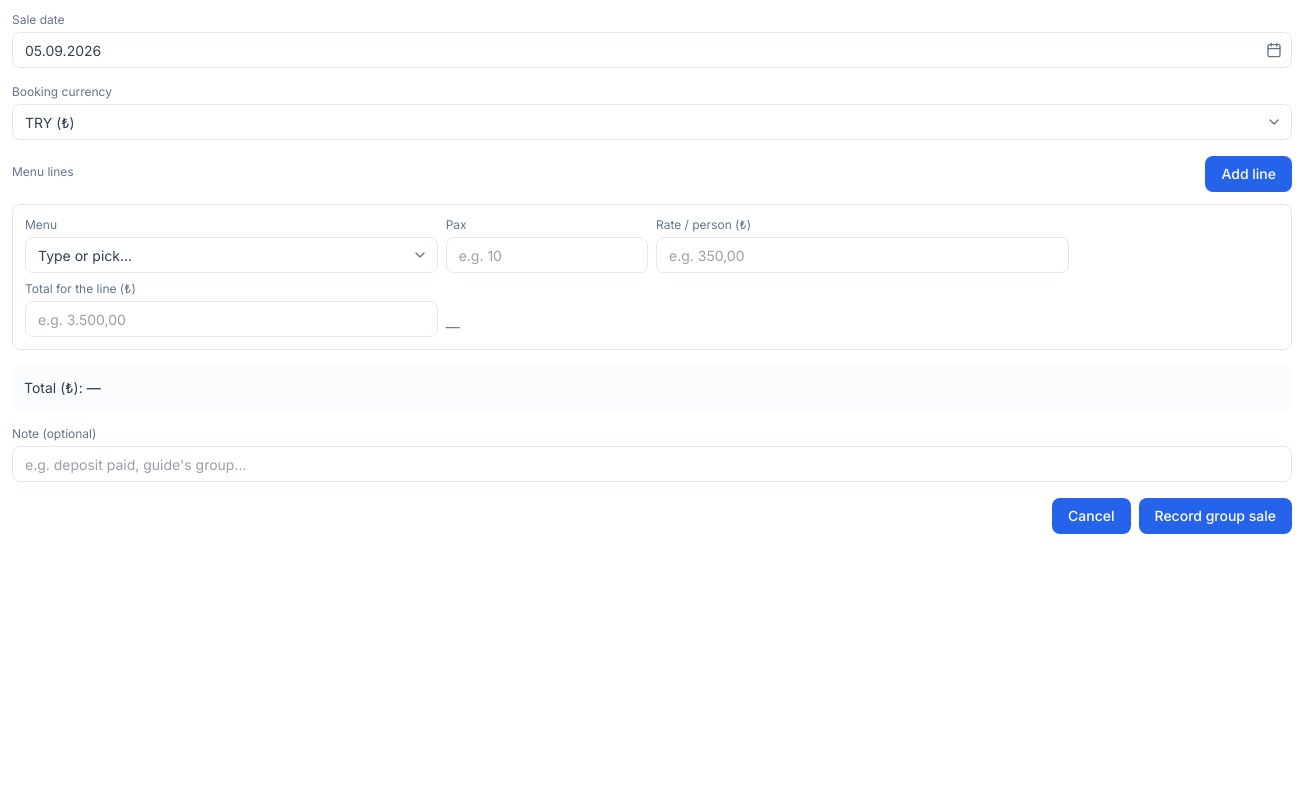
Test: GroupSaleForm menu picker › renders exactly one menu control per line — no duplicate name field
Expected: the text "Menu lines" is shown, [12,164,74,180]
Expected: the number of dropdowns with placeholder "Type or pick…" is 1, [25,237,438,273]
Replace the text in the dropdown with id "group-sale-currency" with "USD" at (652, 122), box [12,104,1292,140]
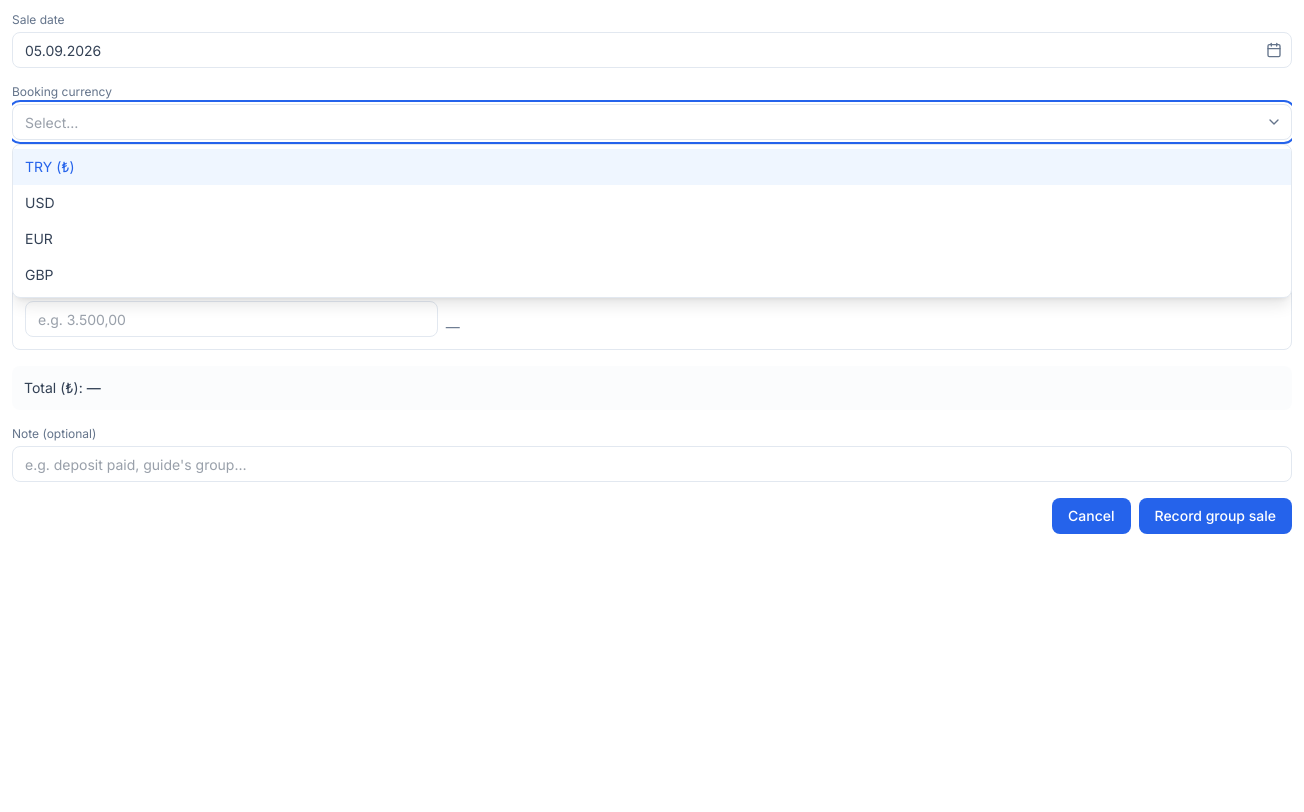
Click the option "USD".
click(40, 202)  # box [13,185,1291,221]
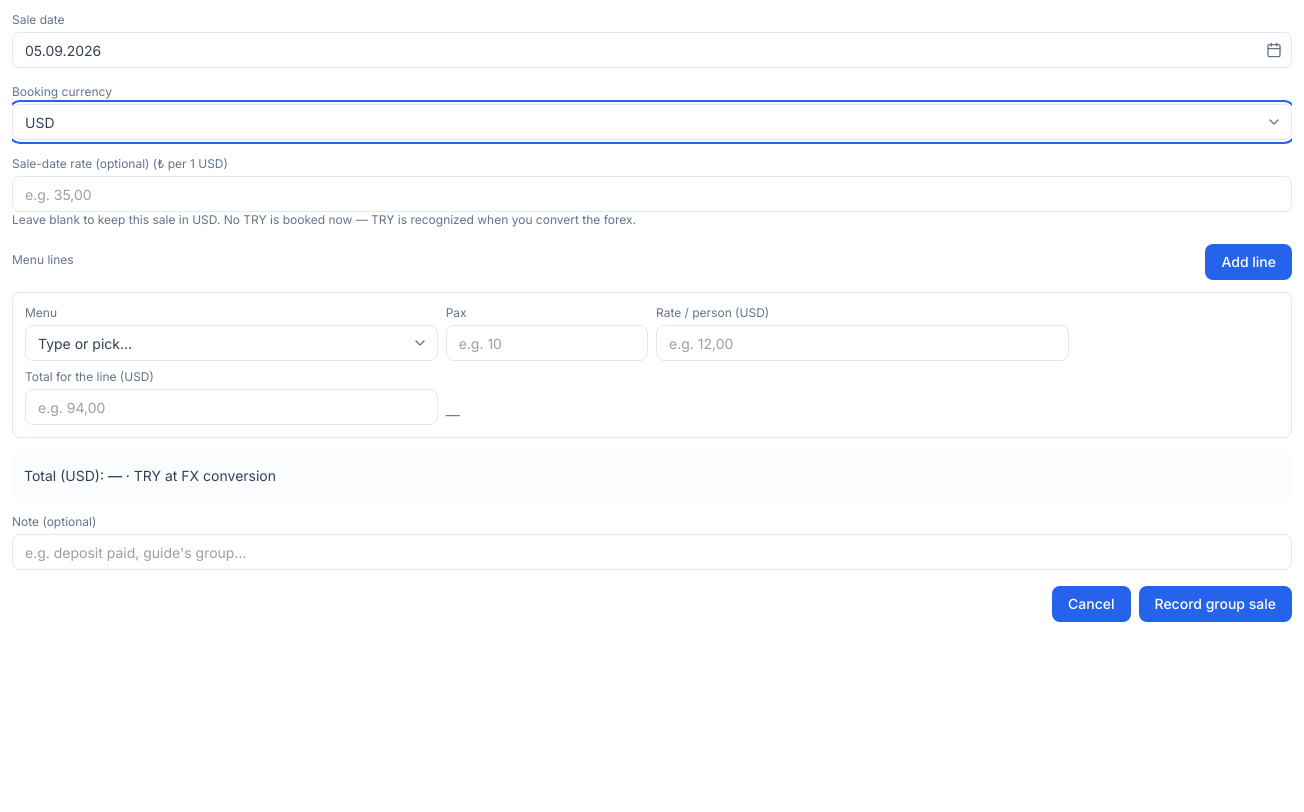
Type "Veg" into the dropdown with placeholder "Type or pick…".
click(231, 343); type("Veg")  # box [25,325,438,361]
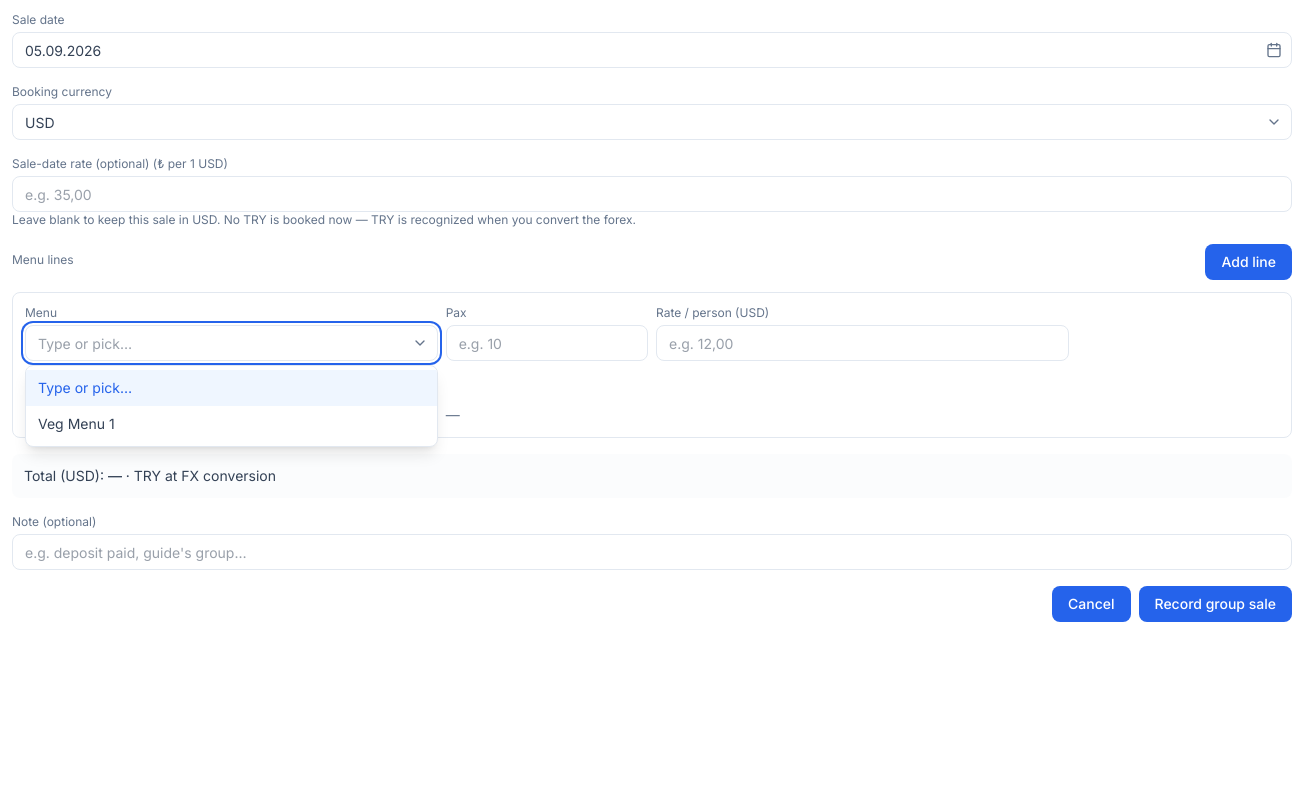
Click the option "Veg Menu 1".
click(76, 424)  # box [26,406,437,442]
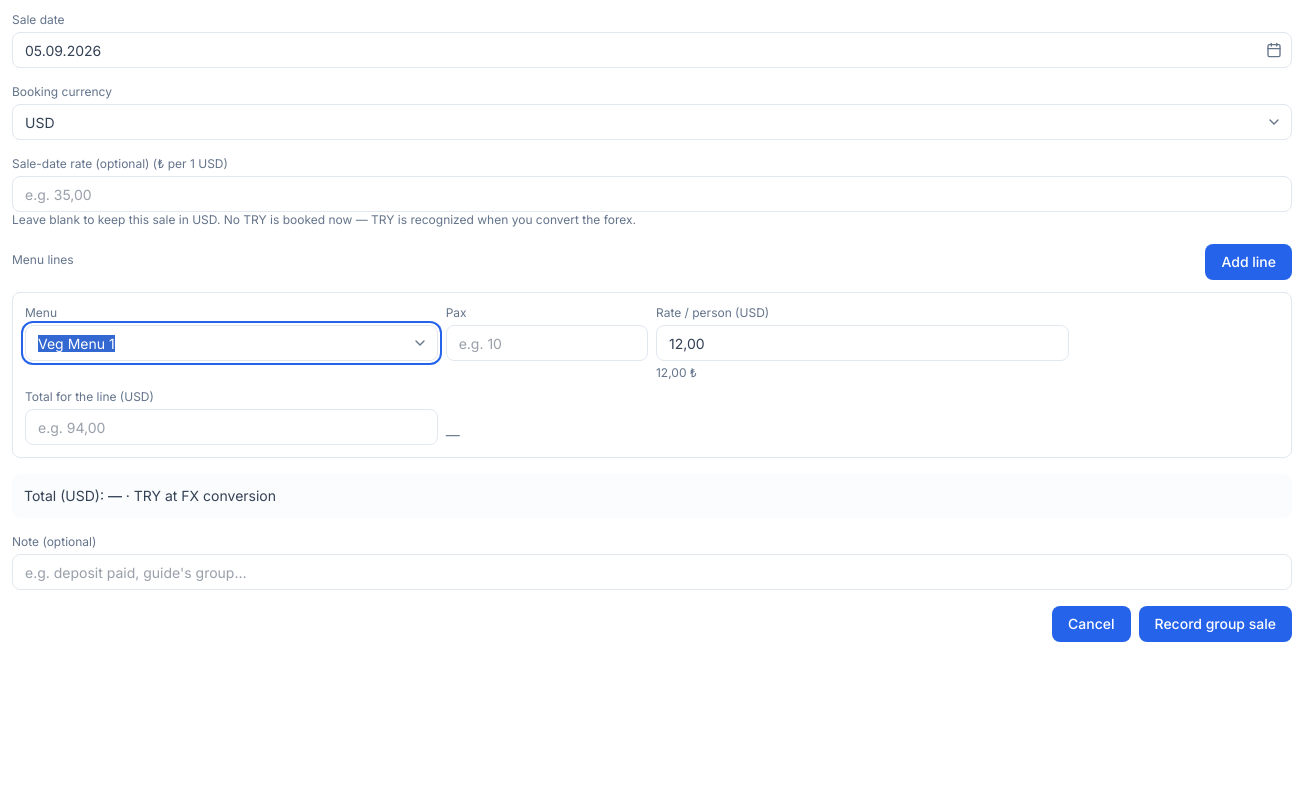
Expected: the number of dropdowns with placeholder "Type or pick…" is 1, [25,325,438,361]
Now the dropdown with placeholder "Type or pick…" holds "Veg Menu 1", box [25,325,438,361]
